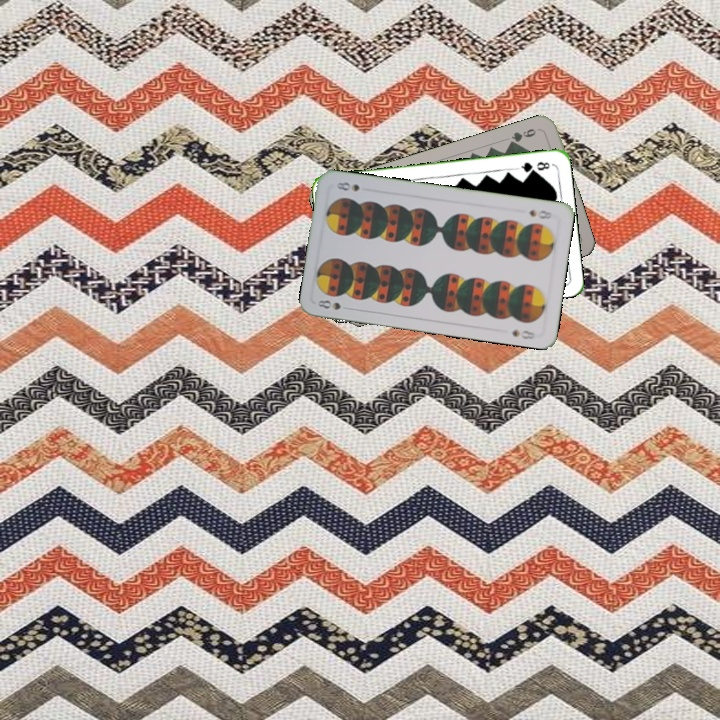G8: (514, 158, 552, 175)
G9: (505, 124, 543, 148)
S8: (525, 206, 556, 222), (314, 296, 343, 312)
